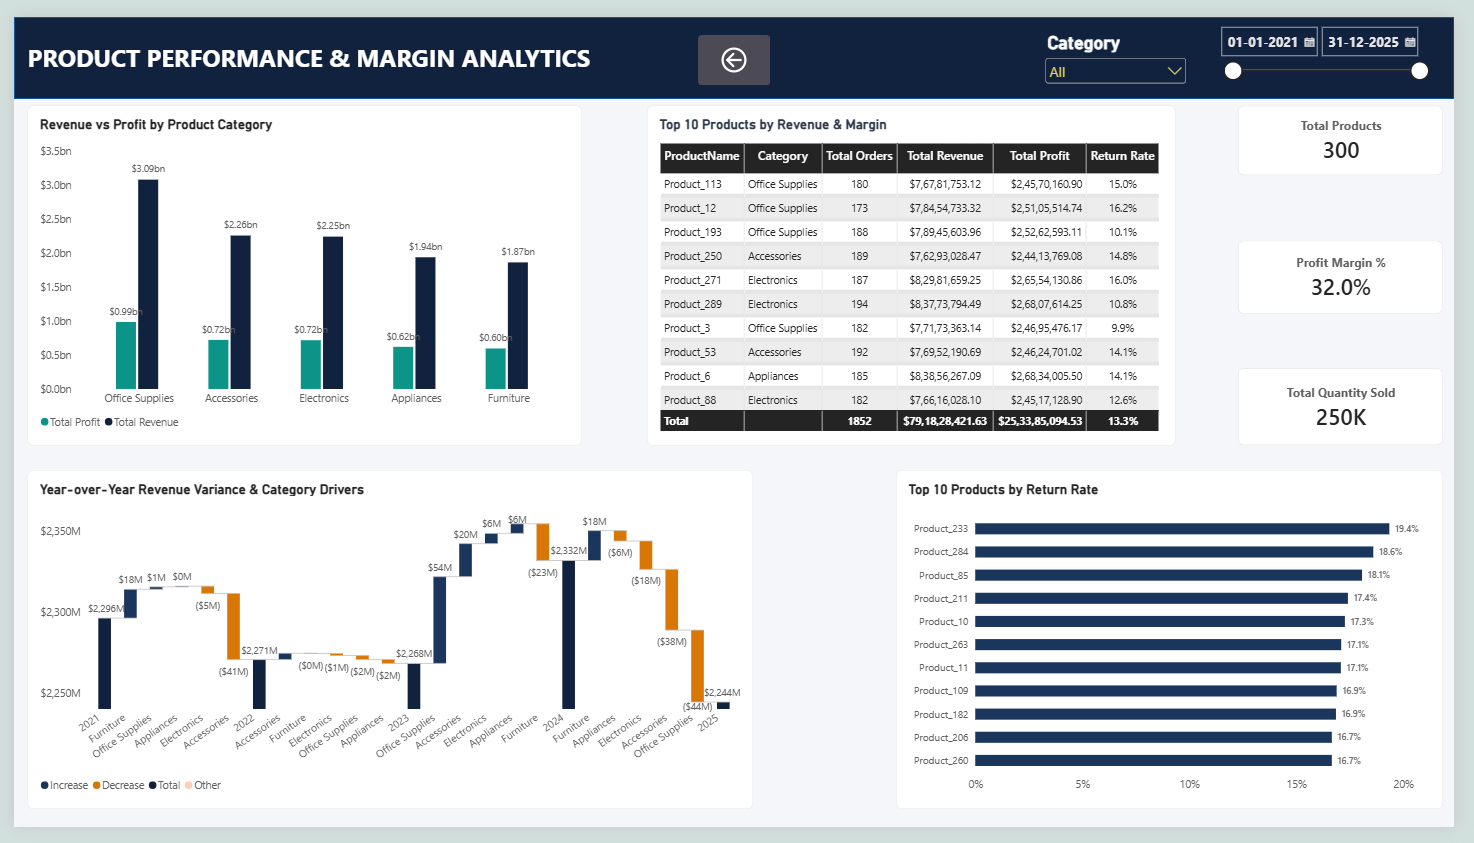

The dashboard page shown, as its layout file describes it:
{"tool":"powerbi","page":{"name":"Product Analysis","canvas":[1920,1080],"ordinal":2},"visuals":[{"type":"shape","box":[0,0,1920.3,109.4],"z":0},{"type":"textbox","box":[18.4,31.6,826.3,63.2],"z":1000},{"type":"slicer","fields":{"Values":["Products.Category"]},"box":[1369.6,20.4,197.6,75],"z":2000},{"type":"clusteredColumnChart","title":"Revenue vs Profit by Product Category","fields":{"Category":["Products.Category"],"Y":["CoreKPIs.Total Profit","CoreKPIs.Total Revenue"]},"box":[18.4,118.4,739.1,453.3],"z":3000},{"type":"tableEx","title":"Top 10 Products by Revenue & Margin","fields":{"Values":["Products.ProductName","Products.Category","CoreKPIs.Total Orders","CoreKPIs.Total Revenue","CoreKPIs.Total Profit","CoreKPIs.Return Rate"]},"box":[844.7,118.4,704.6,453.3],"z":4000},{"type":"waterfallChart","title":"Year-over-Year Revenue Variance & Category Drivers","fields":{"Category":["DimDate.Date.Variation.Date Hierarchy.Year"],"Breakdown":["Products.Category"],"Y":["CoreKPIs.Total Revenue"]},"box":[18.2,604.2,967.6,452],"z":5000},{"type":"clusteredBarChart","title":"Top 10 Products by Return Rate","fields":{"Category":["Products.ProductName"],"Y":["CoreKPIs.Return Rate"]},"box":[1176.5,604.2,729.1,452],"z":6000},{"type":"cardVisual","fields":{"Data":["CoreKPIs.Profit Margin %"]},"box":[1631.6,297.4,273.5,98.5],"z":7000},{"type":"cardVisual","fields":{"Data":["CoreKPIs.Total Products"]},"box":[1631.6,118.4,273.5,93.6],"z":8000},{"type":"cardVisual","fields":{"Data":["CoreKPIs.TotalQuantitySold"]},"box":[1631.6,468.4,273.5,103.5],"z":9000},{"type":"slicer","fields":{"Values":["DimDate.Date"]},"box":[1601.4,7.5,288.5,81.8],"z":10000},{"type":"actionButton","box":[912.7,24.1,96.4,66.9],"z":11000}]}

Visuals, with their boxes in screenshot pixels (x1, y1, x2, y2), scaled from the page's 1920x1080 canvas onto the 1474x843 screenshot:
shape: [0, 0, 1473, 85]
textbox: [14, 25, 648, 74]
slicer - Products.Category: [1051, 16, 1203, 74]
"Revenue vs Profit by Product Category" clusteredColumnChart: [14, 92, 582, 446]
"Top 10 Products by Revenue & Margin" tableEx: [648, 92, 1189, 446]
"Year-over-Year Revenue Variance & Category Drivers" waterfallChart: [14, 472, 757, 824]
"Top 10 Products by Return Rate" clusteredBarChart: [903, 472, 1463, 824]
cardVisual - CoreKPIs.Profit Margin %: [1253, 232, 1463, 309]
cardVisual - CoreKPIs.Total Products: [1253, 92, 1463, 165]
cardVisual - CoreKPIs.TotalQuantitySold: [1253, 366, 1463, 446]
slicer - DimDate.Date: [1229, 6, 1451, 70]
actionButton: [701, 19, 775, 71]
